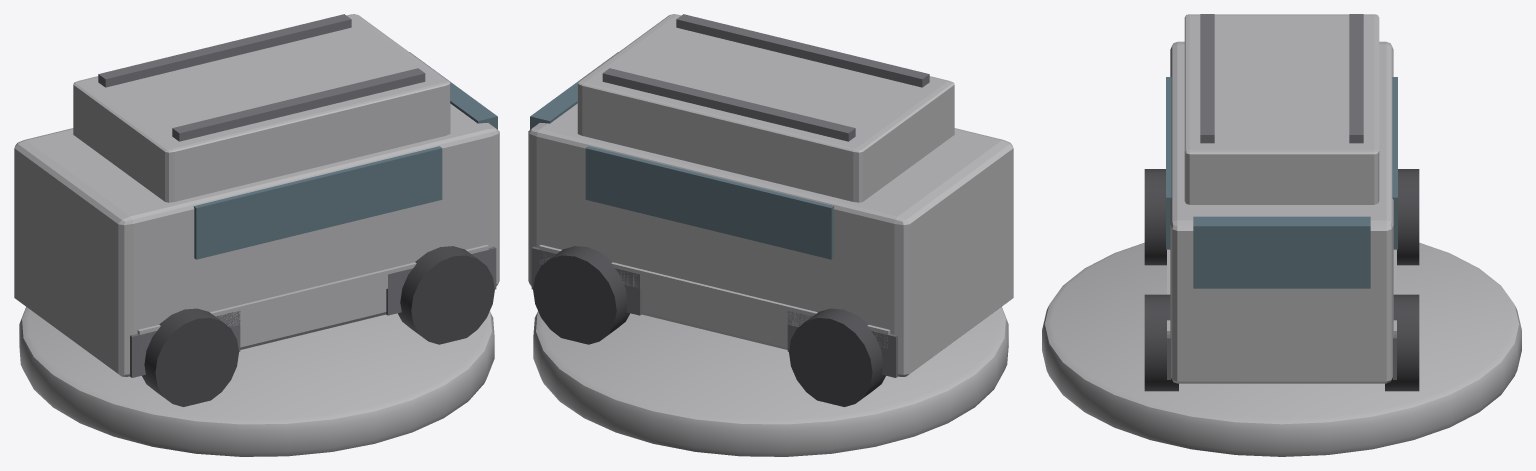
Rendered from token-quantum.glb.
3 renders of one model, left to right at view 1: azimuth 30°, elevation 25°; view 2: azimuth 150°, elevation 25°; view 3: azimuth 270°, elevation 25°, orthographic.
Visible parts, largest first — view 1: token_body, token_base, token_roof, token_side_glass.001, token_wheel.003, token_wheel.001, token_carrier_rail, token_carrier_rail.001, token_stripe.001, token_arch.003, token_arch.001, token_screen; view 2: token_body, token_base, token_roof, token_side_glass, token_wheel.002, token_wheel, token_stripe, token_carrier_rail, token_carrier_rail.001, token_arch, token_arch.002, token_screen; view 3: token_base, token_roof, token_body, token_screen, token_wheel, token_wheel.001, token_wheel.002, token_wheel.003, token_carrier_rail, token_carrier_rail.001, token_side_glass, token_side_glass.001.
Boxes of the visible parts, <box> form: token_body: <box>14,103,499,376</box>; token_base: <box>19,307,494,456</box>; token_roof: <box>73,14,450,202</box>; token_side_glass.001: <box>193,146,442,259</box>; token_wheel.003: <box>142,308,238,406</box>; token_wheel.001: <box>398,246,494,344</box>; token_carrier_rail: <box>98,14,351,87</box>; token_carrier_rail.001: <box>172,68,425,141</box>; token_stripe.001: <box>137,245,488,334</box>; token_arch.003: <box>130,310,240,377</box>; token_arch.001: <box>386,246,496,315</box>; token_screen: <box>409,52,497,129</box>; token_body: <box>528,103,1013,376</box>; token_base: <box>533,307,1008,456</box>; token_roof: <box>577,14,954,202</box>; token_side_glass: <box>585,146,834,259</box>; token_wheel.002: <box>789,308,885,406</box>; token_wheel: <box>533,246,629,344</box>; token_stripe: <box>539,245,890,348</box>; token_carrier_rail: <box>602,68,855,141</box>; token_carrier_rail.001: <box>676,14,929,87</box>; token_arch: <box>531,246,641,315</box>; token_arch.002: <box>787,311,897,377</box>; token_screen: <box>530,52,618,129</box>; token_base: <box>1042,242,1521,456</box>; token_roof: <box>1184,14,1379,204</box>; token_body: <box>1170,41,1393,383</box>; token_screen: <box>1193,216,1370,288</box>; token_wheel: <box>1385,294,1419,391</box>; token_wheel.001: <box>1144,294,1178,391</box>; token_wheel.002: <box>1397,169,1419,265</box>; token_wheel.003: <box>1144,169,1166,265</box>; token_carrier_rail: <box>1349,14,1363,143</box>; token_carrier_rail.001: <box>1200,14,1214,143</box>; token_side_glass: <box>1392,77,1397,249</box>; token_side_glass.001: <box>1166,77,1171,249</box>.
Size of the model in its own units: 1.04 by 0.6867 by 1.04.
